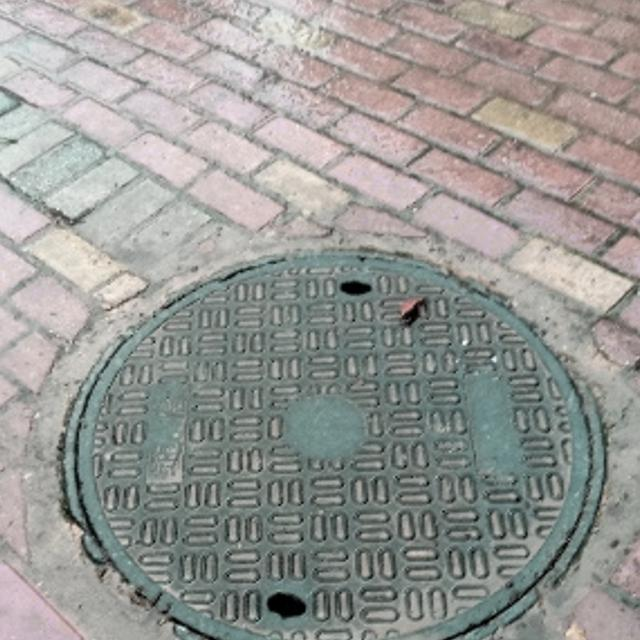good: (62, 251, 612, 640)
